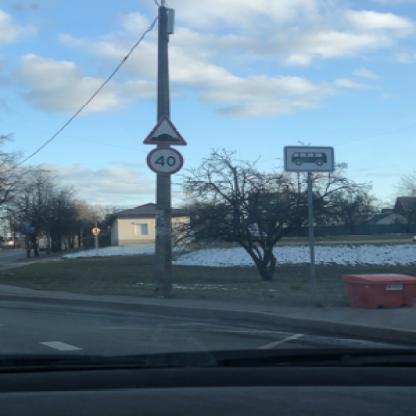speedlimit: (144, 146, 182, 174)
